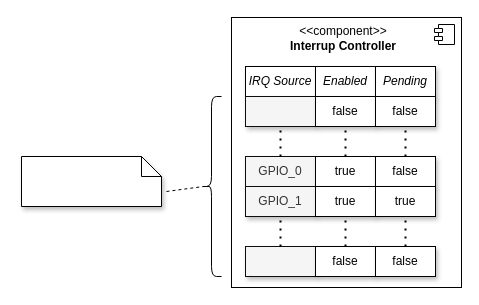
The diagram is 479 pixels wide and 305 high, and some of its shapes have lost their labels. The shapes that lost their labels are listed below. From the top down, each one's centre as x and y in pixels, then its label:
At (x=281, y=113): "AUX".
At (x=92, y=183): "Could be found in the BCM2835 datasheet".
At (x=281, y=263): "UART".
